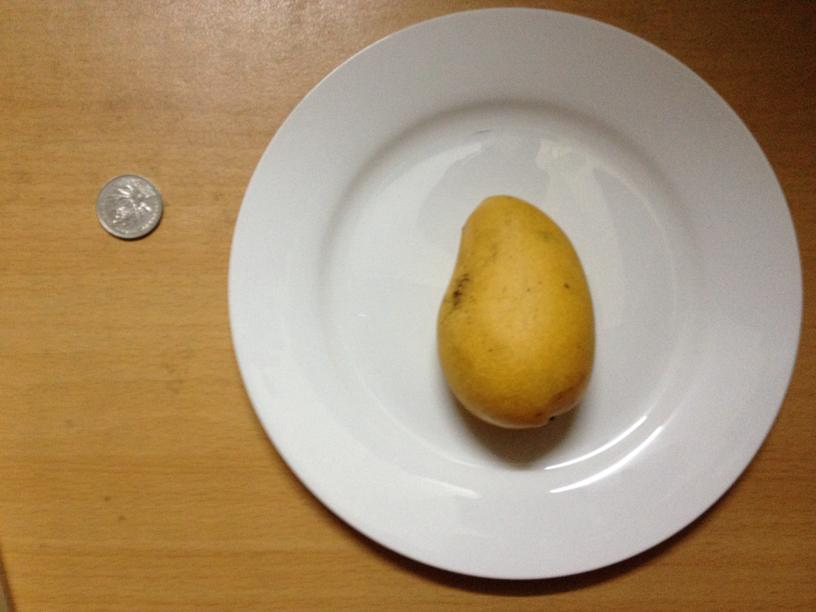coin: (94, 171, 161, 239)
mango: (438, 193, 595, 428)
